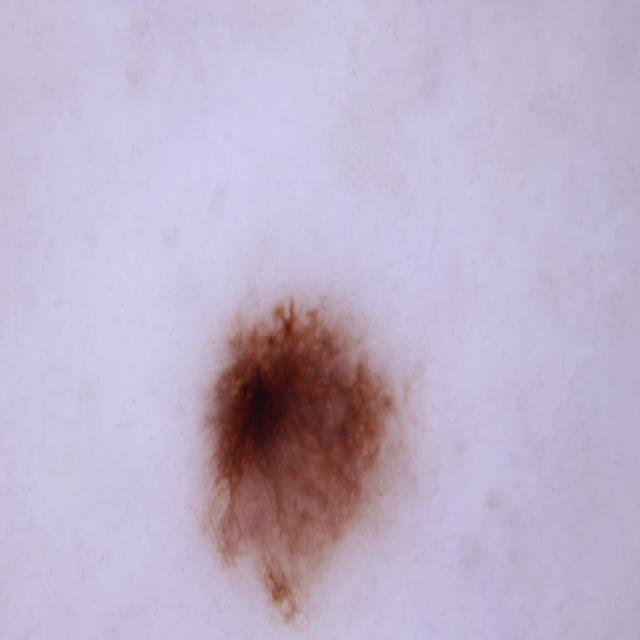Keratosis: (154, 264, 498, 640)
